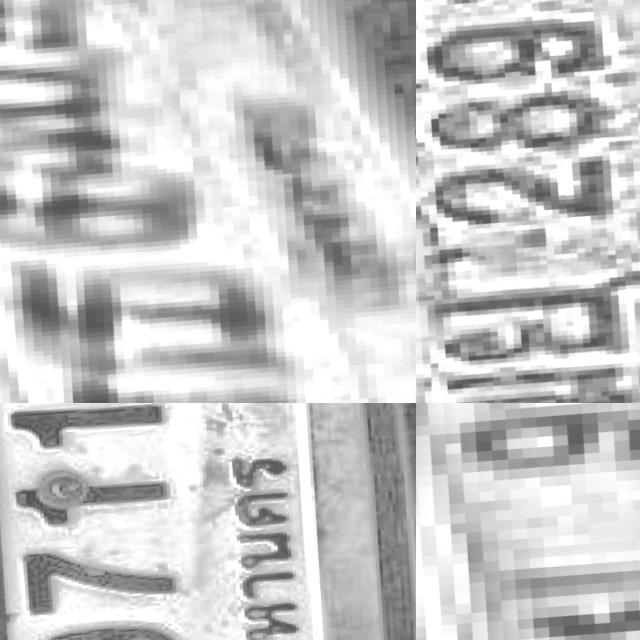license-plate: (0, 0, 416, 403), (0, 403, 416, 640), (416, 0, 640, 403), (416, 403, 640, 640)
